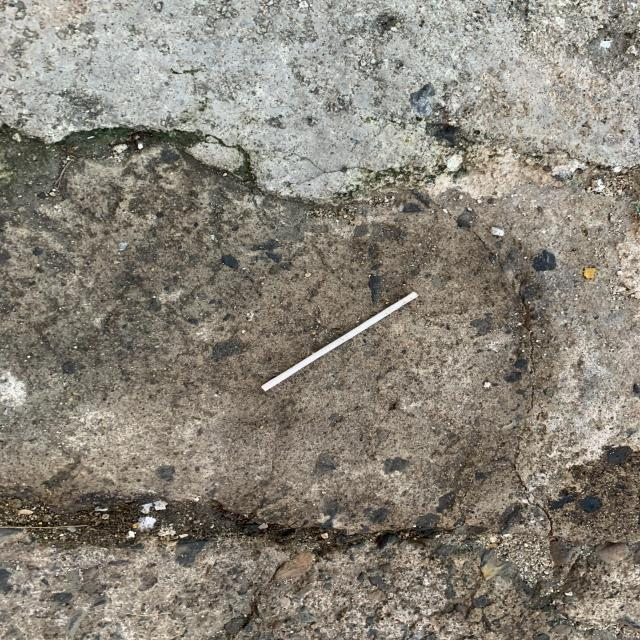litter: (260, 292, 419, 392)
